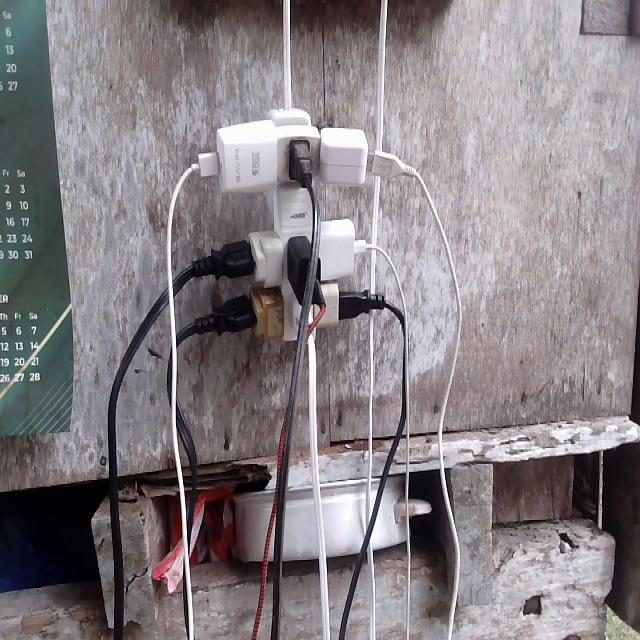-: (203, 106, 389, 342)
